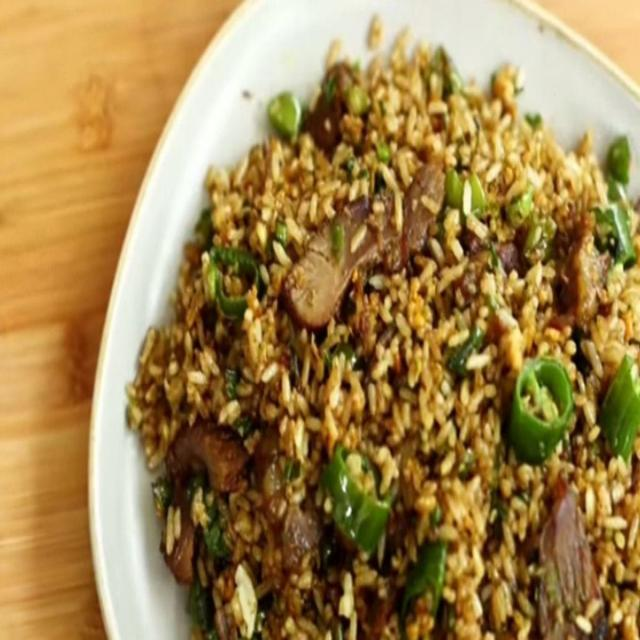Nasi Goreng: (125, 14, 638, 637)
